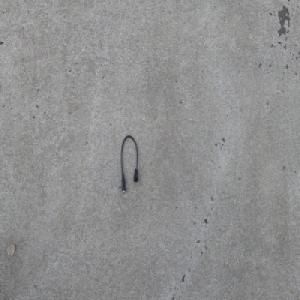Wire: (120, 134, 139, 194)
